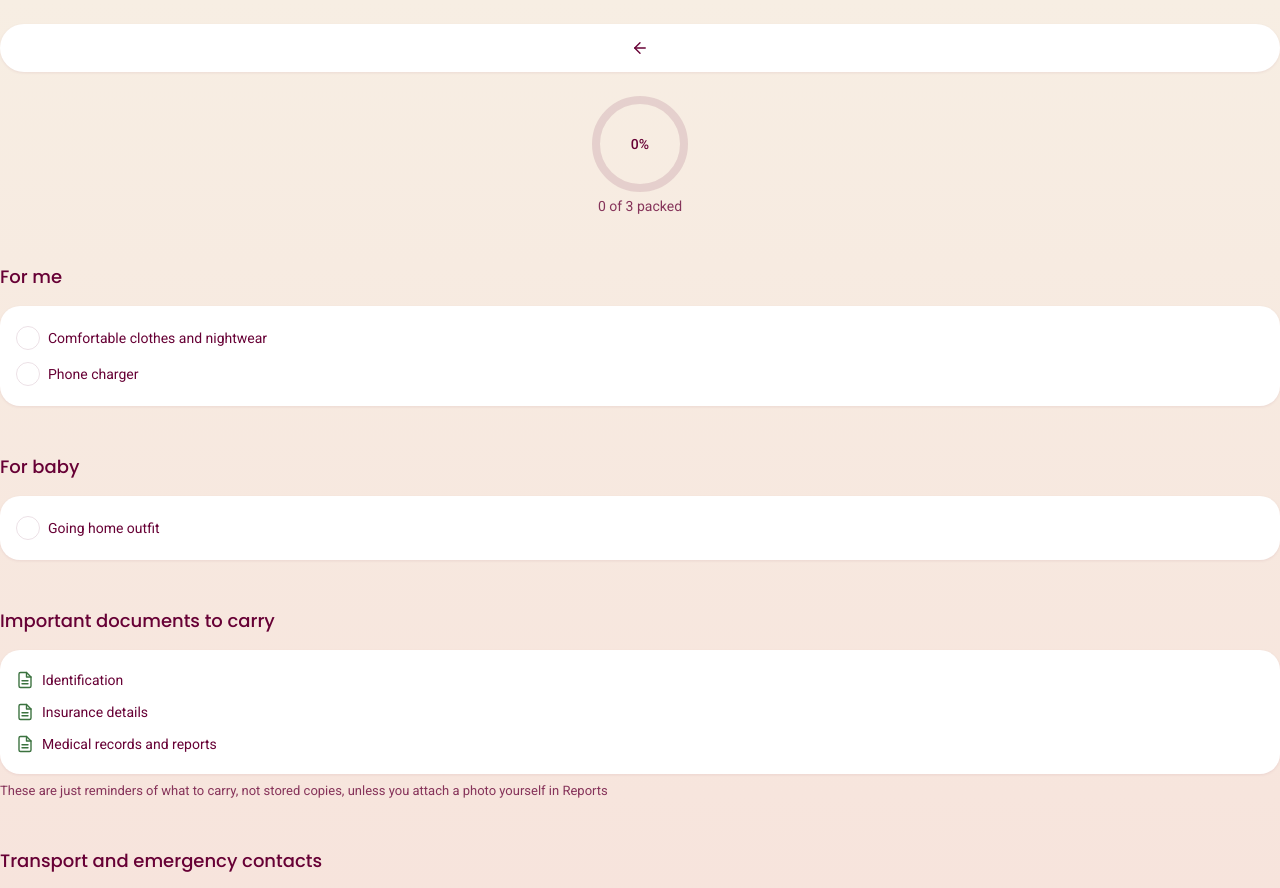
PrepChecklist › is optimistic and reverts with an ErrorBanner when the save fails
Click the button "Comfortable clothes and nightwear" at (158, 338), box [16, 322, 1264, 354]
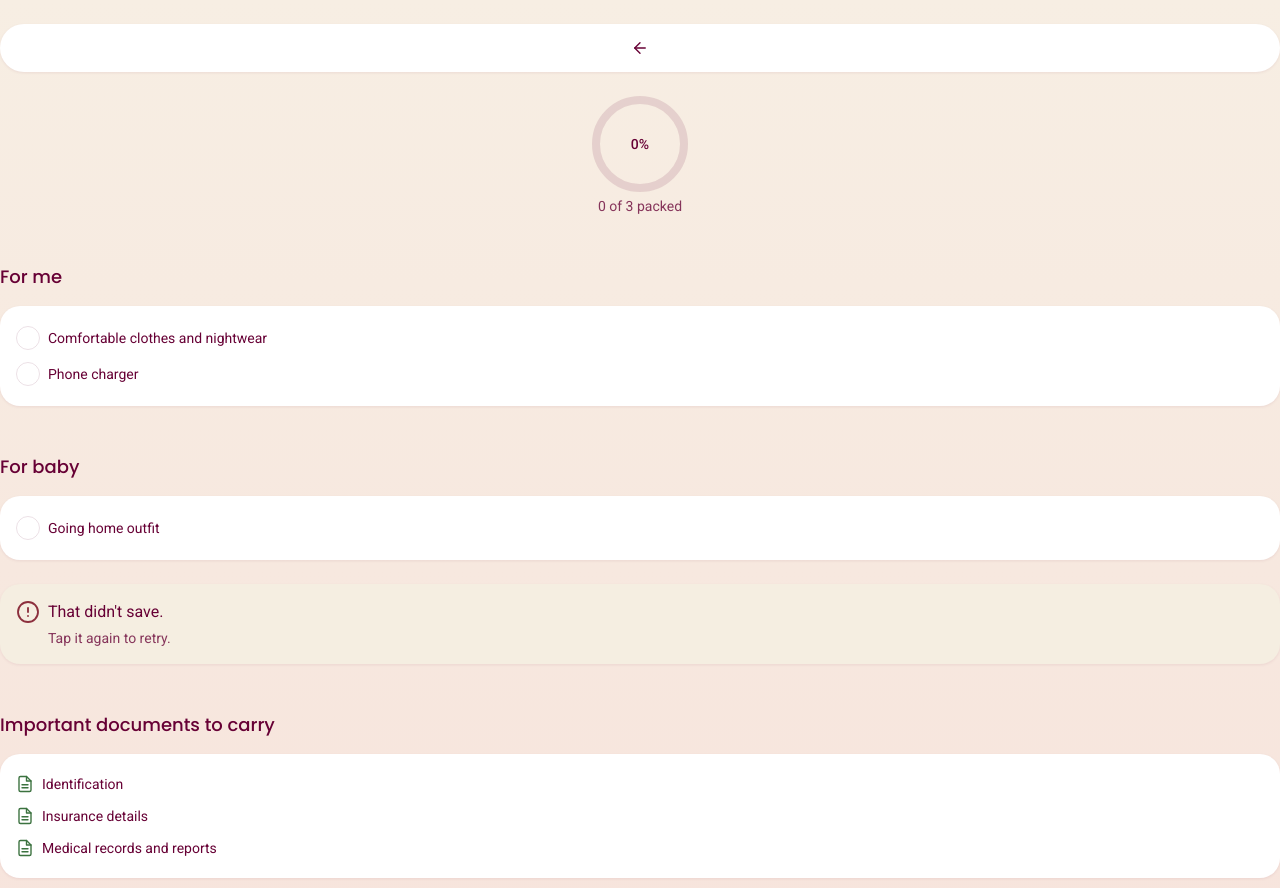
Expected: the text "0%" is shown, [631, 136, 649, 152]
Expected: the message "That didn't save. Tap it again to retry." is shown, [0, 584, 1279, 664]
